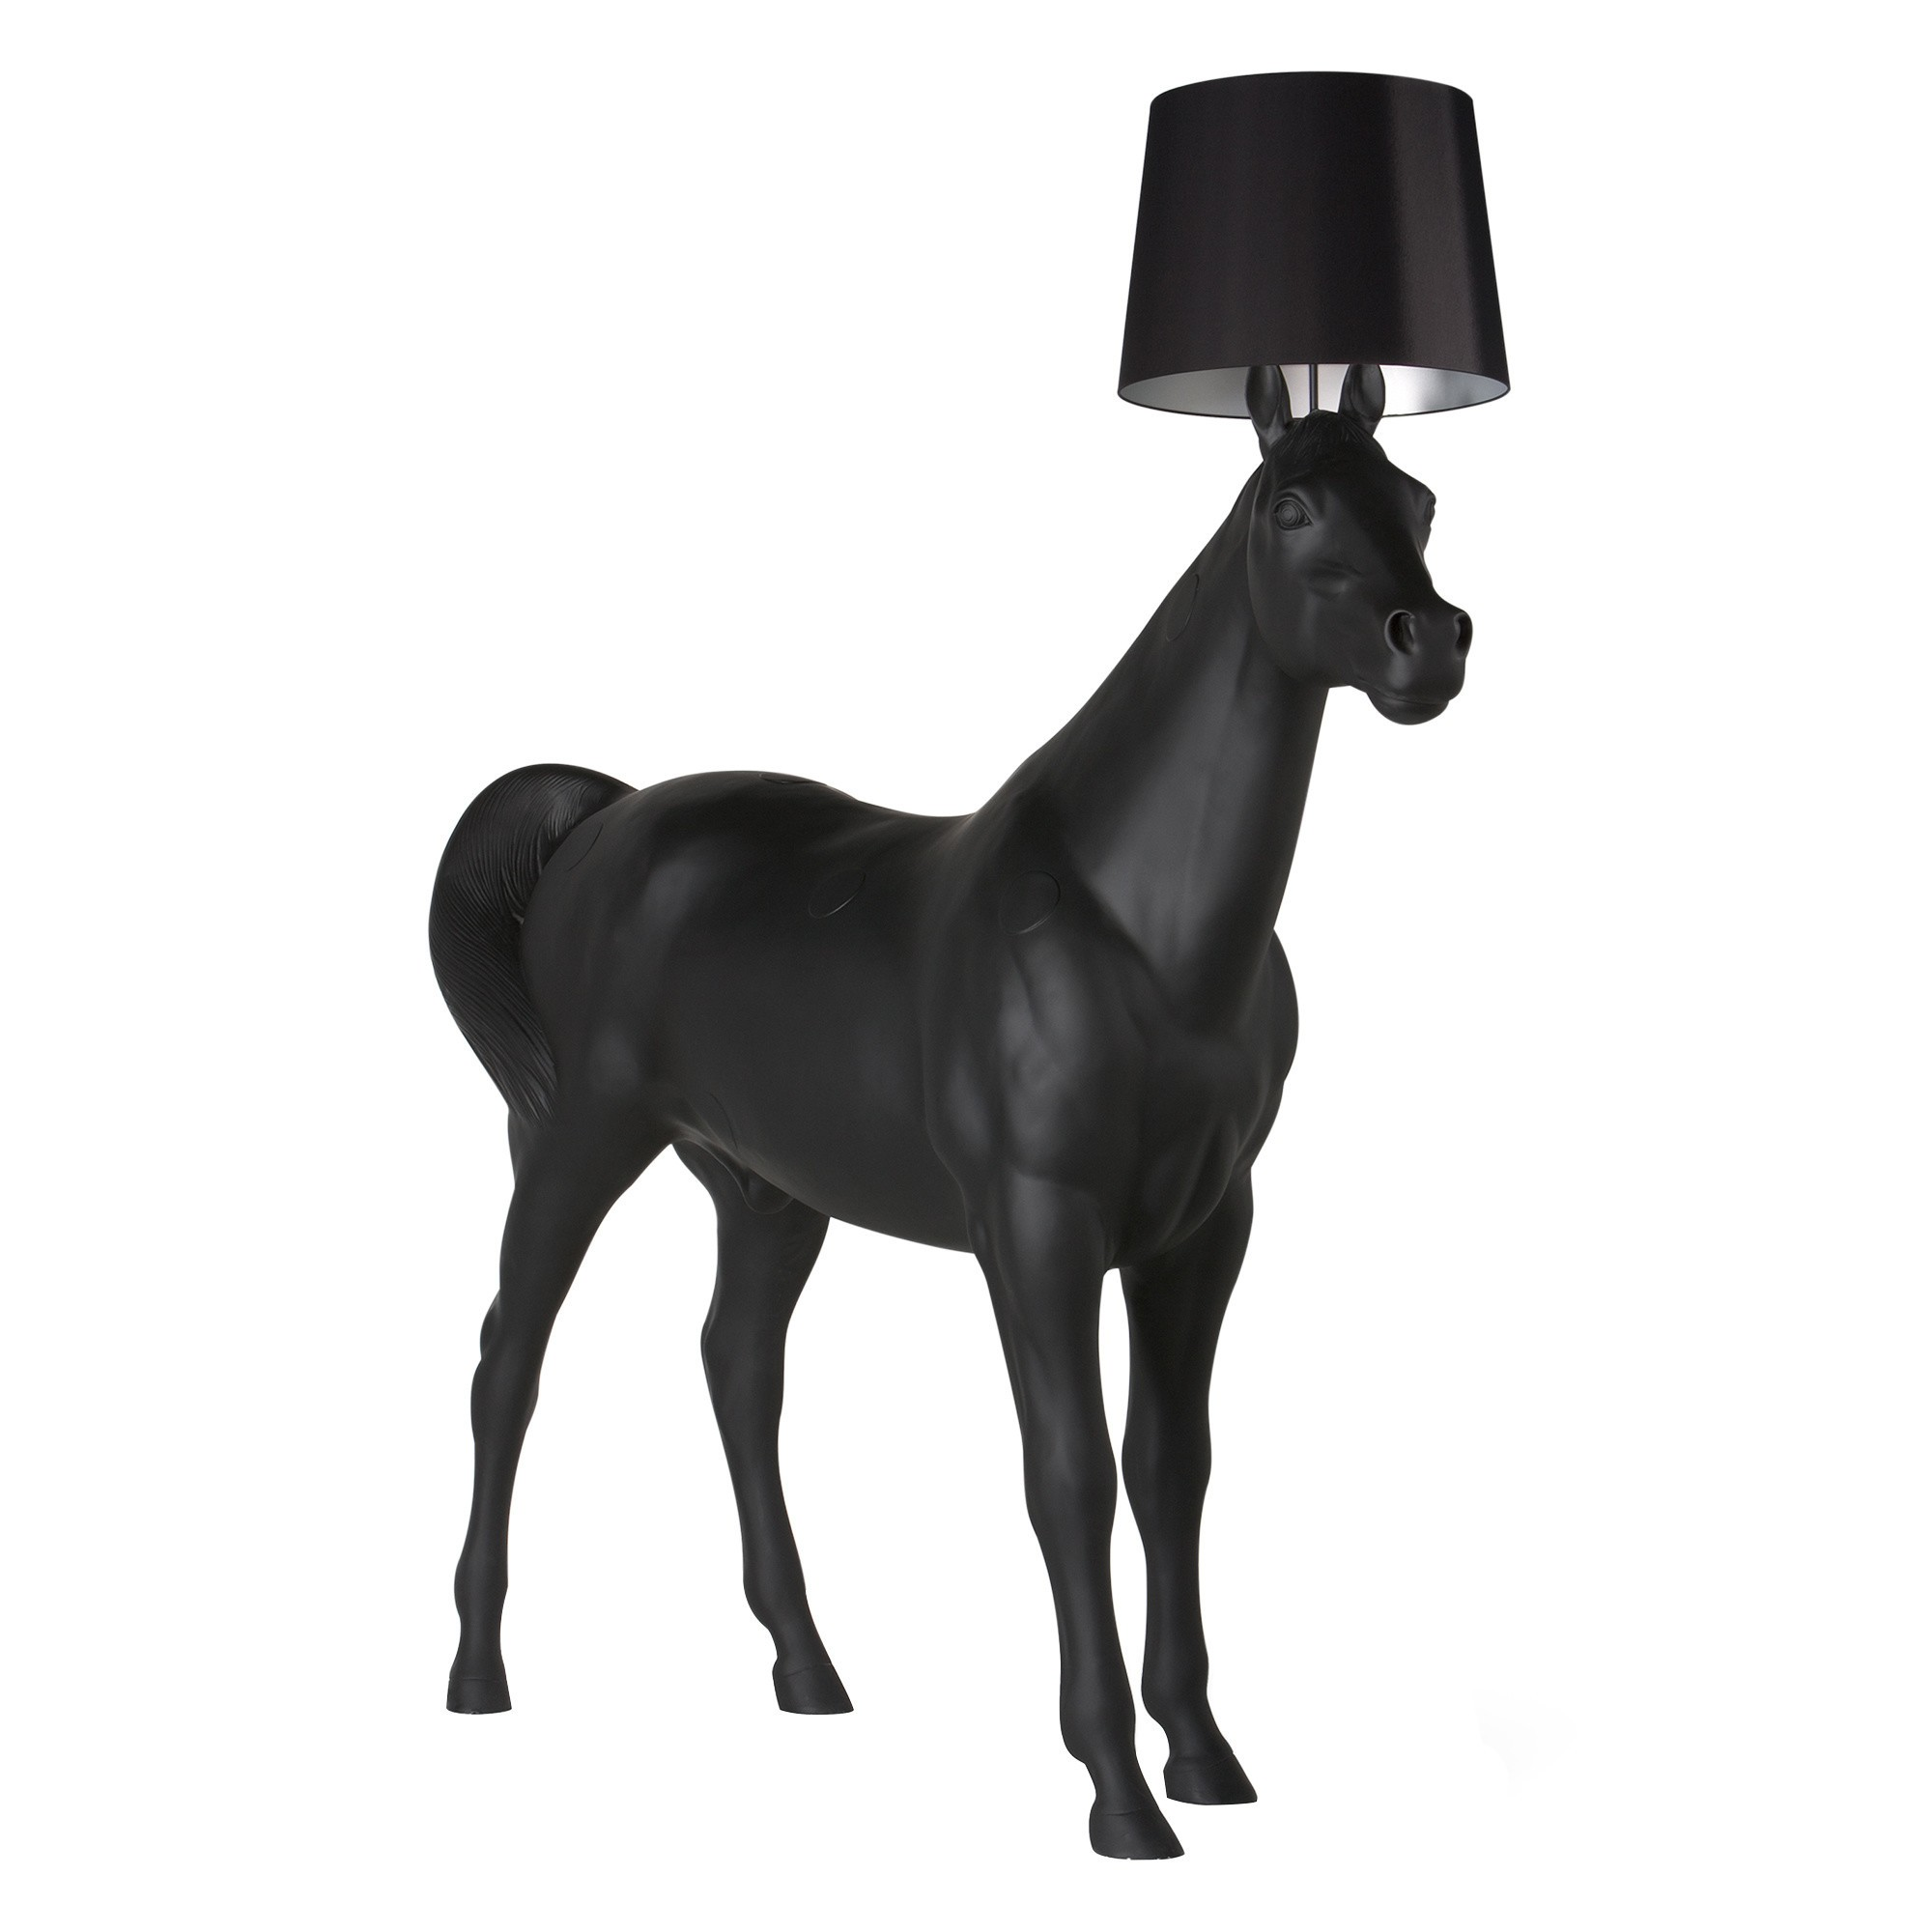lampu: (1109, 55, 1513, 428)
